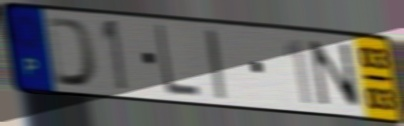1: (99, 17, 131, 96), (283, 37, 314, 106)
D: (44, 14, 100, 90)
I: (202, 27, 229, 102)
L: (152, 22, 202, 100)
N: (306, 38, 365, 111)
